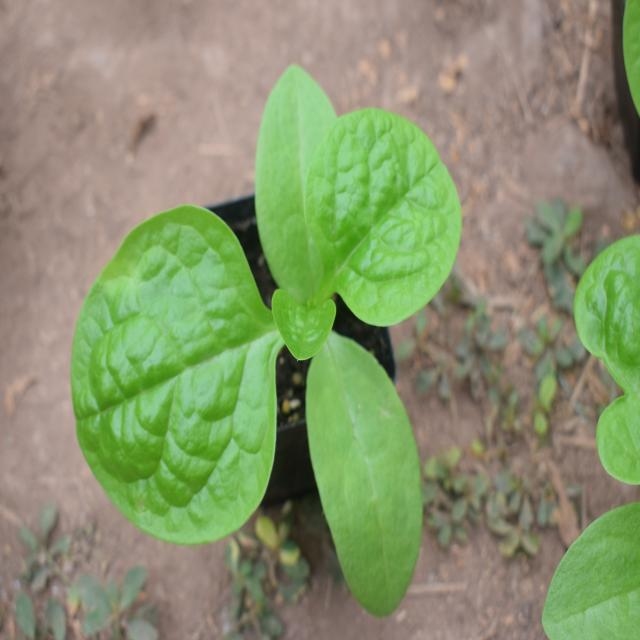Ceylon spinach: (61, 78, 439, 554)
